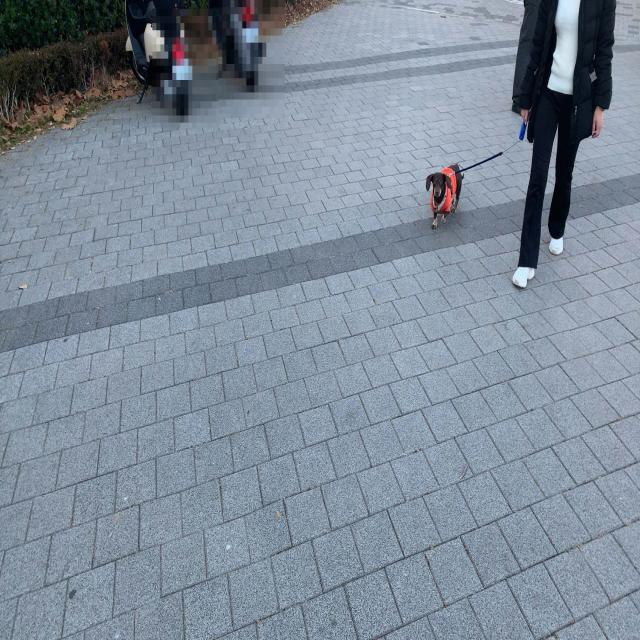Leashed_Dog: (425, 74, 566, 232)
